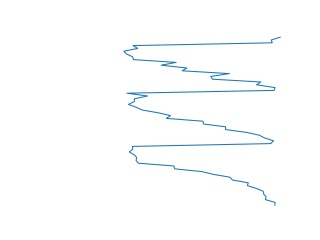distributaryMouthBar: (122, 39, 281, 205)
